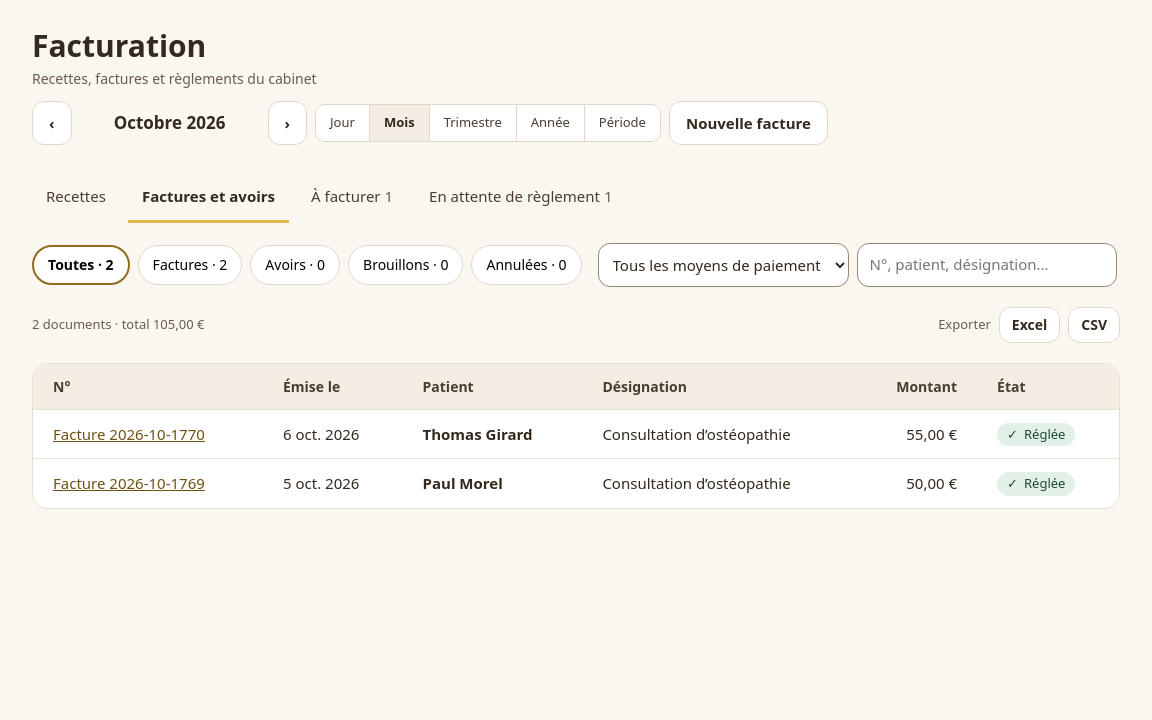
Test: facturation › filtre les factures par moyen de paiement et les exporte
The width and height of the screenshot is (1152, 720).
Select "Réglées par chèque" in the dropdown named "Moyen de paiement" at (723, 264), box [598,242,849,286]
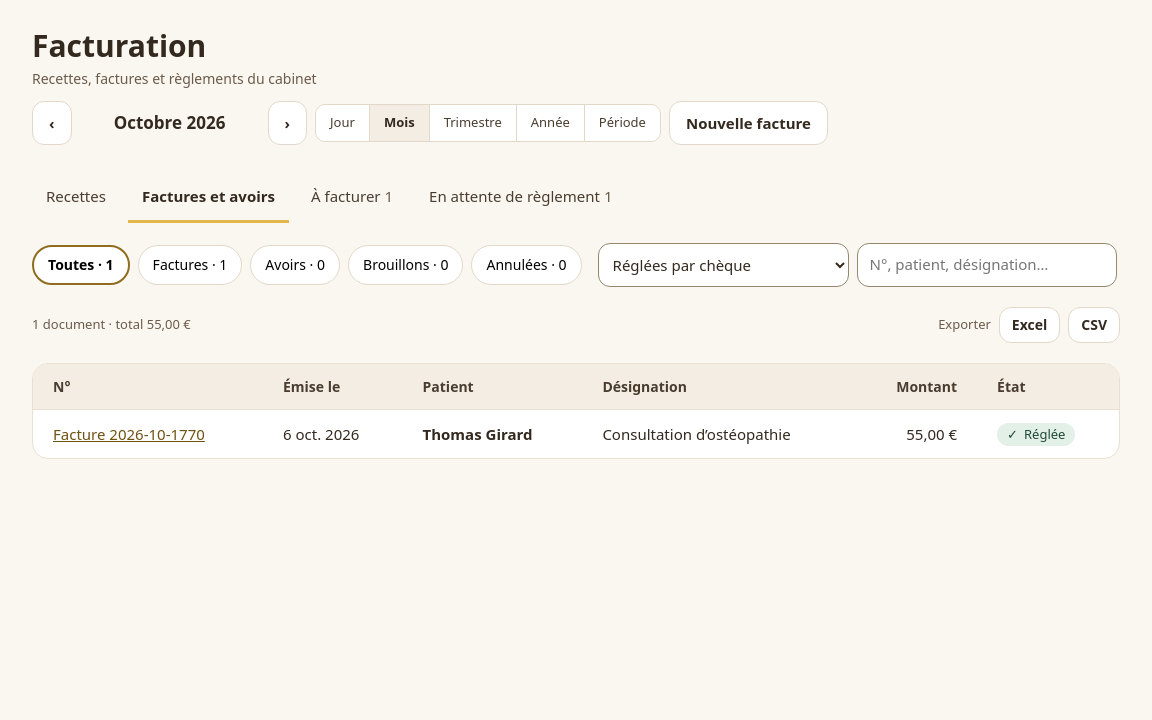
Expected: the text "Thomas Girard" is shown, [422,424,532,444]
Expected: the number of rows is 2, [33,364,1119,409]; [33,409,1119,458]
Expected: the text "1 document · total 55,00 €" is shown, [32,315,191,334]
Click the button "CSV" at (1094, 324), box [1068,306,1120,342]
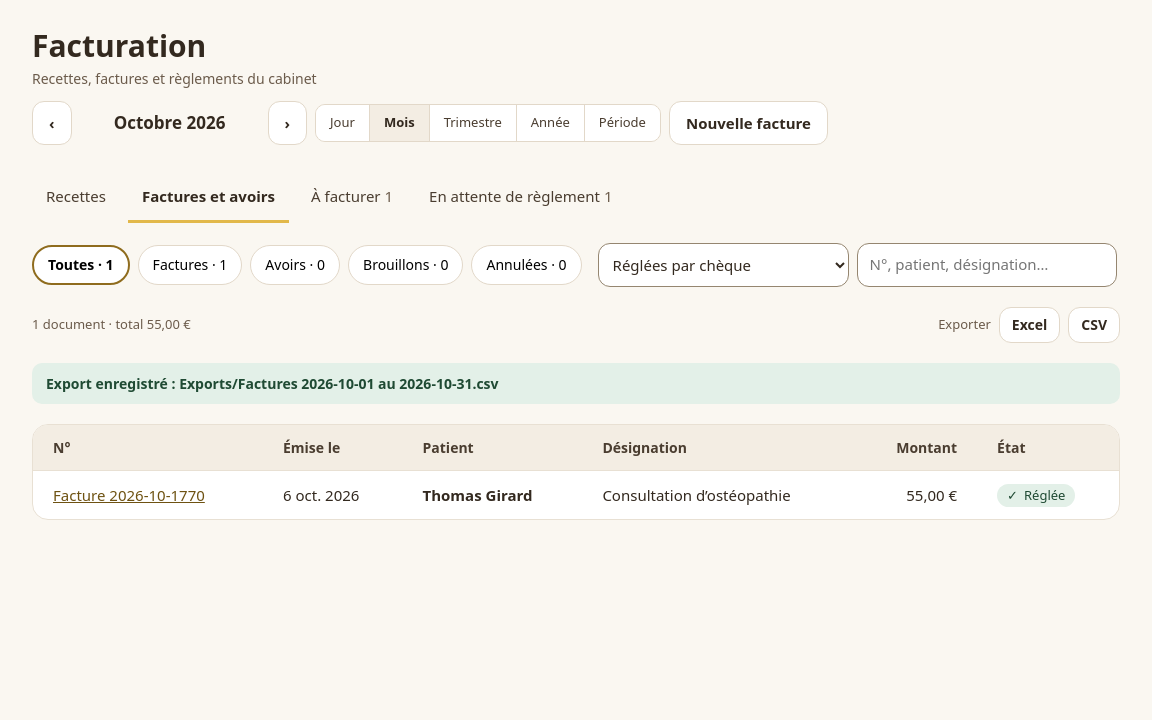
Expected: the text "Export enregistré : Exports/Factures 2026-10-01 au 2026-10-31.csv" is shown, [32,362,1120,404]
Select "Sans règlement" in the dropdown named "Moyen de paiement" at (723, 264), box [598,242,849,286]
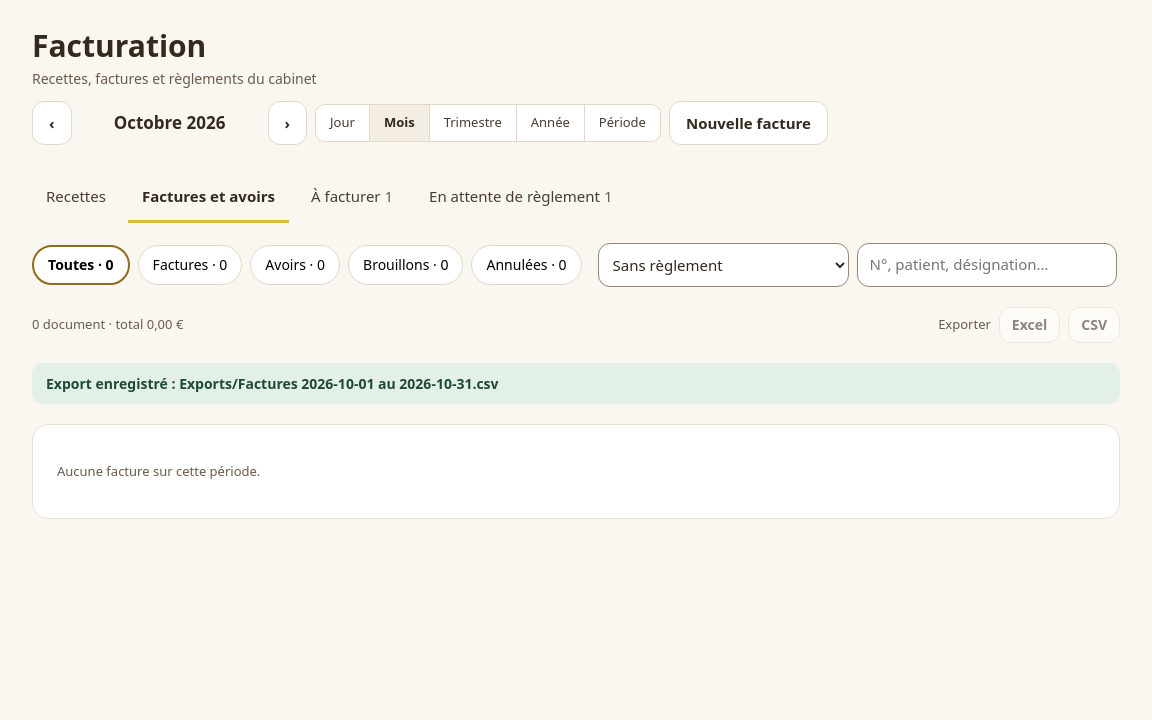
Expected: the text "Thomas Girard" is gone
